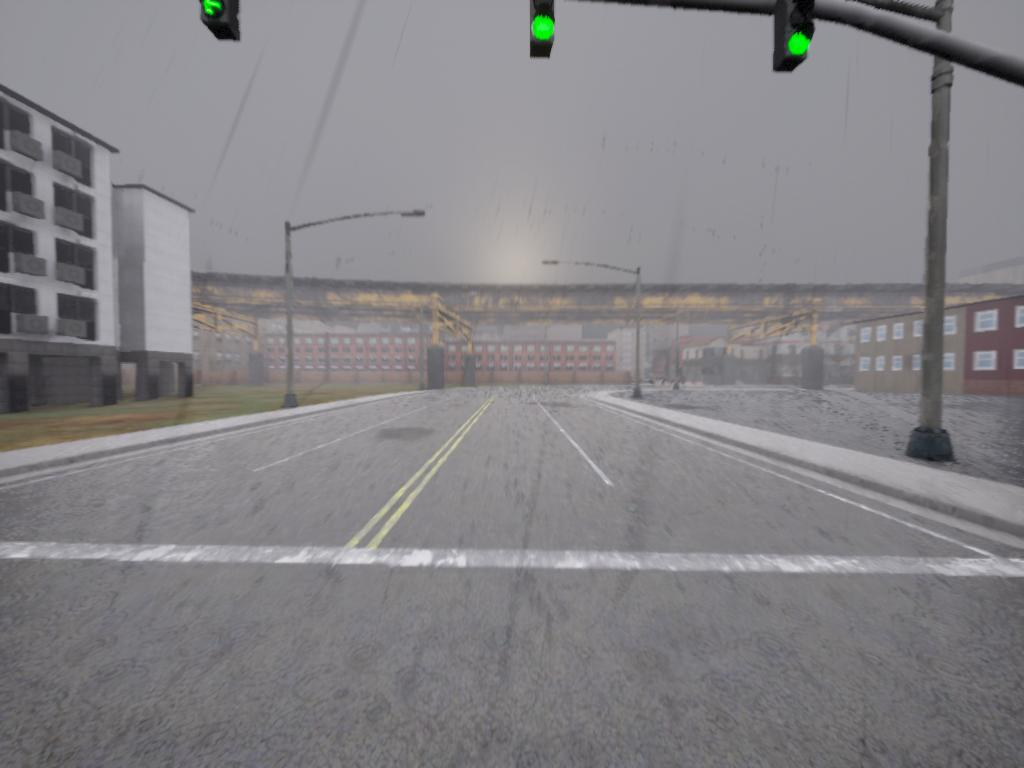traffic_light: (772, 1, 817, 70), (199, 1, 242, 41), (528, 1, 557, 60)
